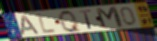0: (119, 6, 139, 27)
A: (21, 15, 41, 36)
L: (37, 12, 57, 34)
M: (94, 6, 126, 31)
Q: (58, 9, 83, 34)
T: (78, 9, 94, 31)
